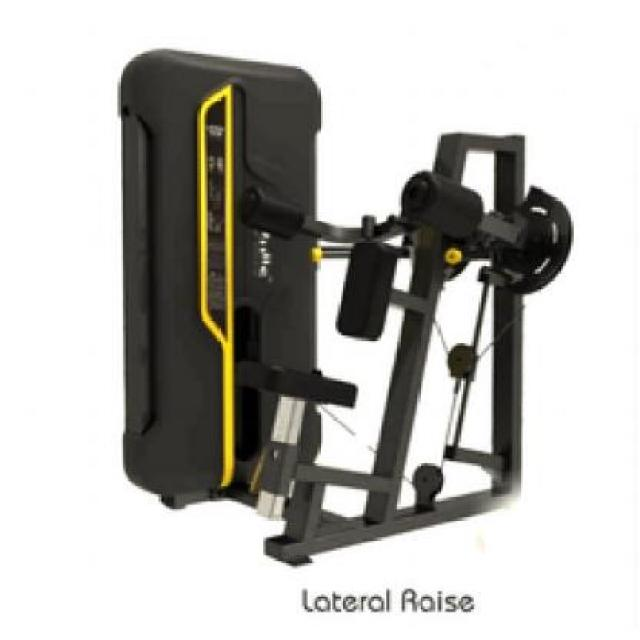lateral raises machine: (119, 48, 576, 569)
